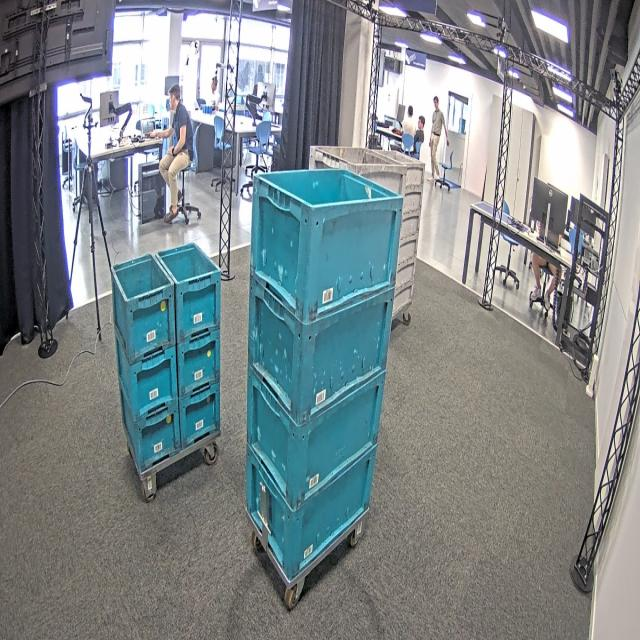Box3G: (401, 150, 427, 191), (391, 280, 418, 310), (396, 215, 424, 241), (394, 261, 414, 293), (402, 185, 424, 214), (392, 240, 422, 260)
Box4G: (309, 144, 404, 216)
BoxB4: (251, 161, 405, 327), (254, 276, 395, 428), (251, 374, 382, 508), (256, 451, 376, 583)
BoxB8: (110, 254, 177, 365), (160, 242, 223, 346), (117, 354, 180, 423), (122, 407, 184, 472), (174, 331, 222, 399), (177, 385, 222, 451)
